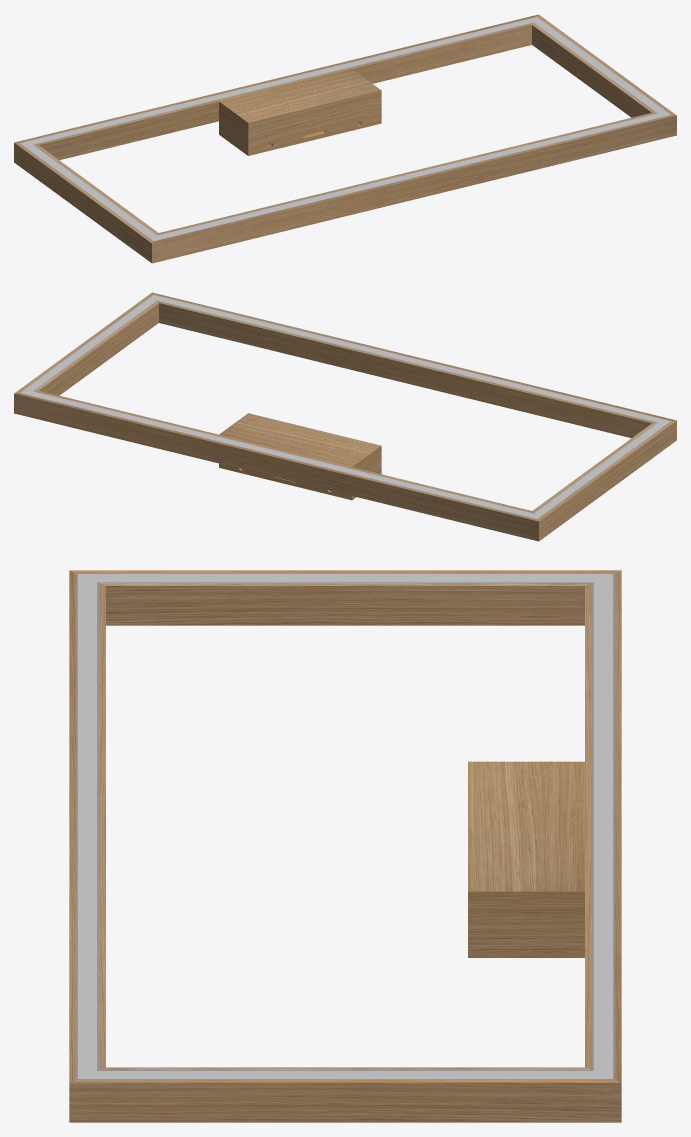
3 views of the same model, one above another, from view 1: azimuth 30°, elevation 25°; view 2: azimuth 150°, elevation 25°; view 3: azimuth 270°, elevation 25° (orthographic). The views are drawn at different scales.
Visible parts, largest first — view 1: Cube.002_Cube.001, Cube.010_Cube.009, Cube.001, Cube.003_Cube.005, Cube.004_Cube.005, alu_led6_Cube.021, alu_led6.001_Cube.021, alu6_Cube.020, alu6.001_Cube.020, alu_led8_Cube.029, alu_led8.001_Cube.029; view 2: Cube.001, Cube.002_Cube.001, Cube.010_Cube.009, Cube.003_Cube.005, Cube.004_Cube.005, alu_led6.001_Cube.021, alu_led6_Cube.021, alu6_Cube.020, alu6.001_Cube.020, alu_led8_Cube.029, alu_led8.001_Cube.029; view 3: Cube.004_Cube.005, Cube.010_Cube.009, Cube.003_Cube.005, alu_led6_Cube.021, alu_led6.001_Cube.021, Cube.002_Cube.001, Cube.001, alu_led8_Cube.029, alu_led8.001_Cube.029, alu6_Cube.020, alu6.001_Cube.020, alu8_Cube.028 (+1 smaller).
Boxes of the visible parts, x1,y1,x2,y2 form: Cube.002_Cube.001: (152,112,676,263); Cube.010_Cube.009: (219,69,381,155); Cube.001: (14,14,538,160); Cube.003_Cube.005: (14,142,158,262); Cube.004_Cube.005: (532,14,676,117); alu_led6_Cube.021: (154,113,670,240); alu_led6.001_Cube.021: (20,17,536,144); alu6_Cube.020: (153,113,671,241); alu6.001_Cube.020: (20,16,537,144); alu_led8_Cube.029: (20,143,156,240); alu_led8.001_Cube.029: (534,17,670,114); Cube.001: (14,390,538,541); Cube.002_Cube.001: (152,292,676,438); Cube.010_Cube.009: (219,413,381,500); Cube.003_Cube.005: (532,420,676,540); Cube.004_Cube.005: (14,292,158,395); alu_led6.001_Cube.021: (20,391,536,518); alu_led6_Cube.021: (154,295,670,422); alu6_Cube.020: (153,294,670,422); alu6.001_Cube.020: (19,391,537,519); alu_led8_Cube.029: (534,421,670,518); alu_led8.001_Cube.029: (20,295,156,392); Cube.004_Cube.005: (69,1067,621,1122); Cube.010_Cube.009: (468,761,584,957); Cube.003_Cube.005: (69,570,621,625); alu_led6_Cube.021: (78,574,96,1078); alu_led6.001_Cube.021: (594,574,612,1078); Cube.002_Cube.001: (69,570,105,1082); Cube.001: (585,570,621,1082); alu_led8_Cube.029: (78,574,612,582); alu_led8.001_Cube.029: (78,1071,612,1078); alu6_Cube.020: (76,573,98,1079); alu6.001_Cube.020: (592,573,614,1079); alu8_Cube.028: (76,573,614,582).
Bounding box in the file's own units: 82.7 × 5 × 37.7.
